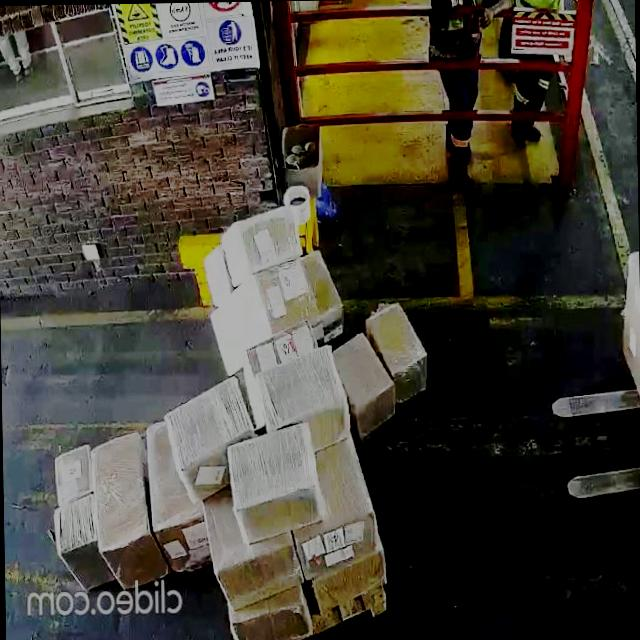Box: (226, 423, 324, 543), (163, 374, 250, 502), (209, 268, 306, 358), (98, 432, 149, 598), (260, 344, 345, 437), (223, 208, 294, 278), (378, 297, 432, 388), (303, 508, 376, 574), (53, 494, 99, 588), (341, 338, 388, 424), (224, 543, 295, 599), (227, 597, 308, 640), (166, 501, 204, 582), (50, 440, 90, 499)
